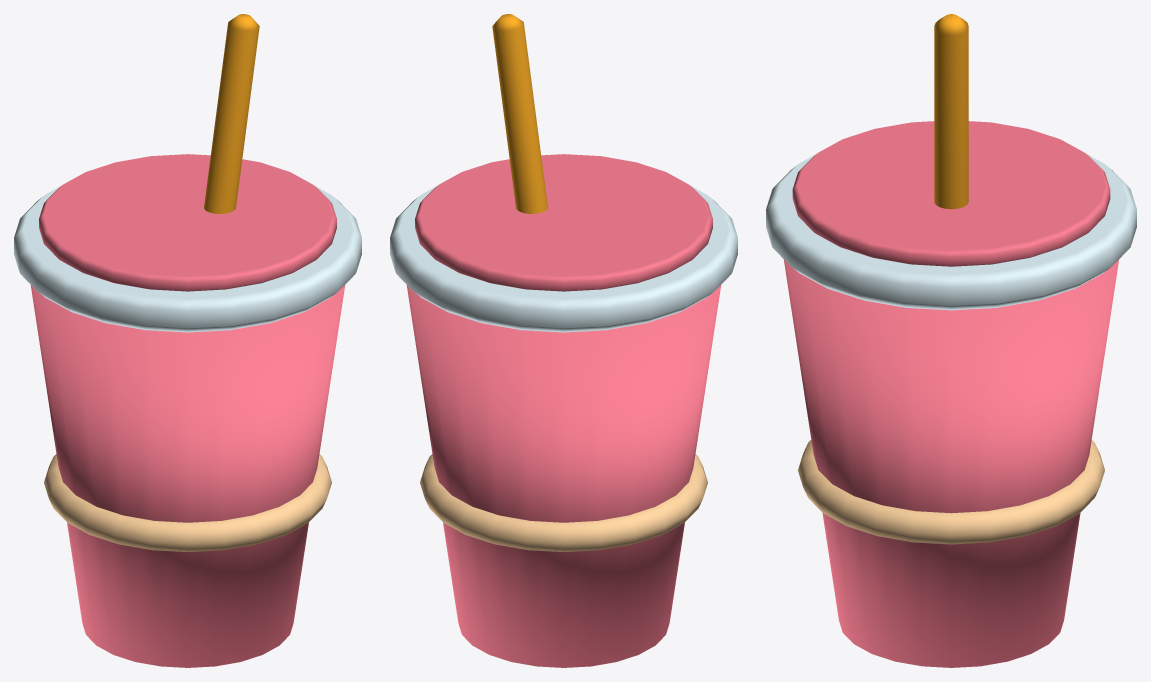
The model's file is teacup.glb.
The picture shows the model from 3 angles, left to right: view 1: azimuth 30°, elevation 25°; view 2: azimuth 150°, elevation 25°; view 3: azimuth 270°, elevation 25°; orthographic projection. The views are drawn at different scales.
Visible parts, largest first — view 1: teacup; view 2: teacup; view 3: teacup.
Boxes of the visible parts, x1,y1,x2,y2 form: teacup: (14, 14, 361, 667); teacup: (390, 14, 737, 667); teacup: (766, 14, 1136, 667).
Size of the model in its own units: 0.531 by 1 by 0.531.
1 material, 1 textured.
